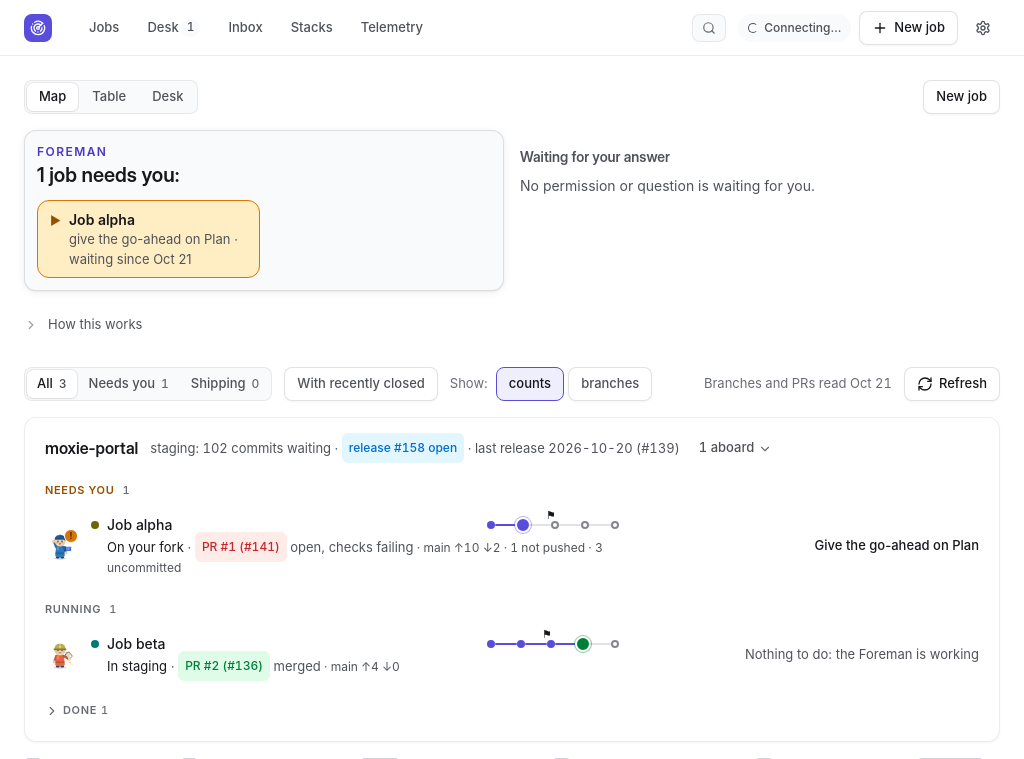
Test: Home: the flow map as rows › is the landing page: one row per job under its group, with the ship track, the words, the counts and the next hint
The width and height of the screenshot is (1024, 759).
Expected: the text with class "map-row-hint" reads "Give the go-ahead on Plan", [815, 537, 979, 553]
Expected: the element with class "map-row-words" reads "In staging · PR #2 (#136) merged · main ↑4 ↓0", [107, 651, 400, 681]
Click the button "1 aboard" at (735, 448), box [688, 434, 783, 462]
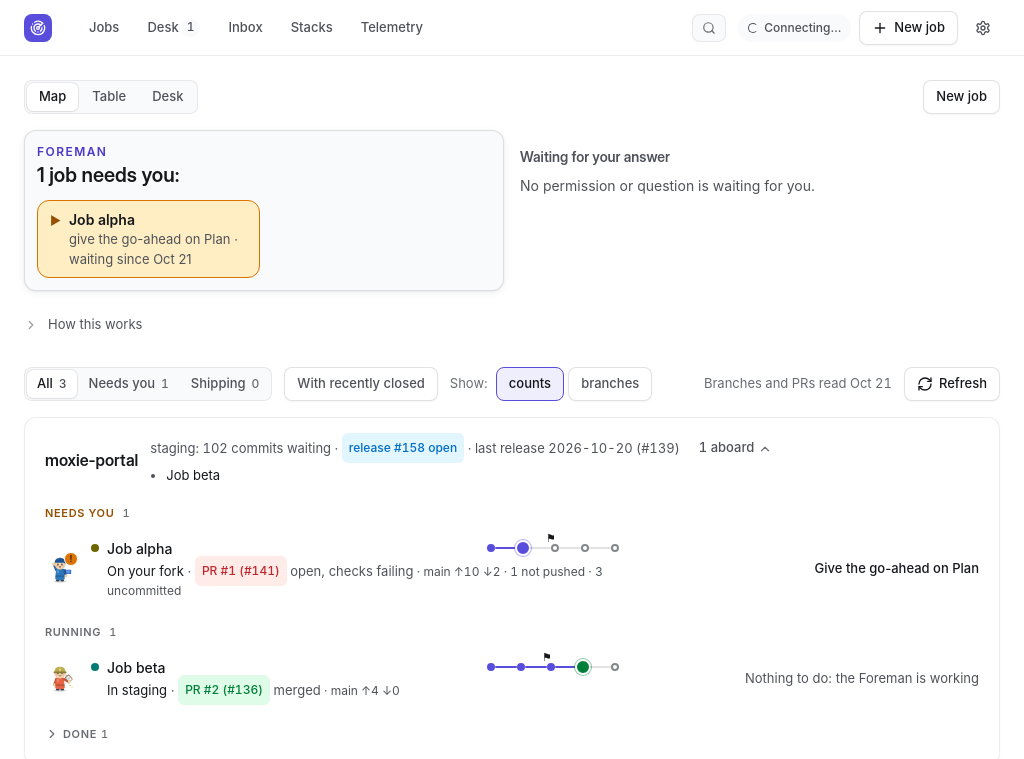
Expected: the element named "The Foreman" is shown, [24, 130, 504, 291]
Expected: the link "Job beta" below "staging: 102 commits waiting" is shown, [166, 467, 220, 483]
